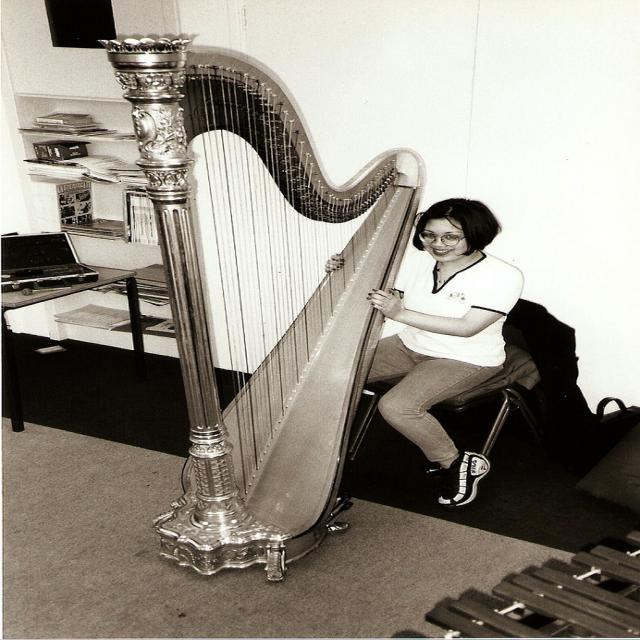harp: (85, 30, 428, 577)
